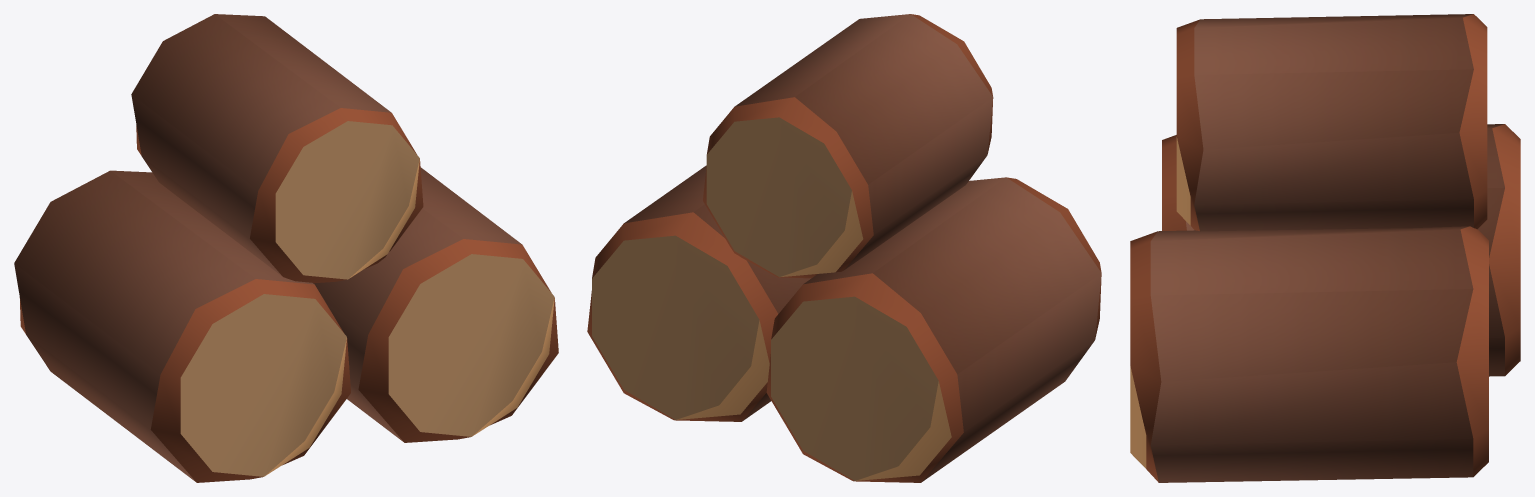
The model's file is Tree_revard.fbx.
3 renders of one model, left to right at view 1: azimuth 30°, elevation 25°; view 2: azimuth 150°, elevation 25°; view 3: azimuth 270°, elevation 25°, orthographic. The views are drawn at different scales.
Visible parts, largest first — view 1: Tree_farm_1.005; view 2: Tree_farm_1.005; view 3: Tree_farm_1.005.
Boxes of the visible parts, x1,y1,x2,y2 form: Tree_farm_1.005: (14, 14, 558, 482); Tree_farm_1.005: (587, 14, 1101, 482); Tree_farm_1.005: (1130, 14, 1520, 482).
Bounding box in the file's own units: 0.7984 × 0.6305 × 0.7045.
